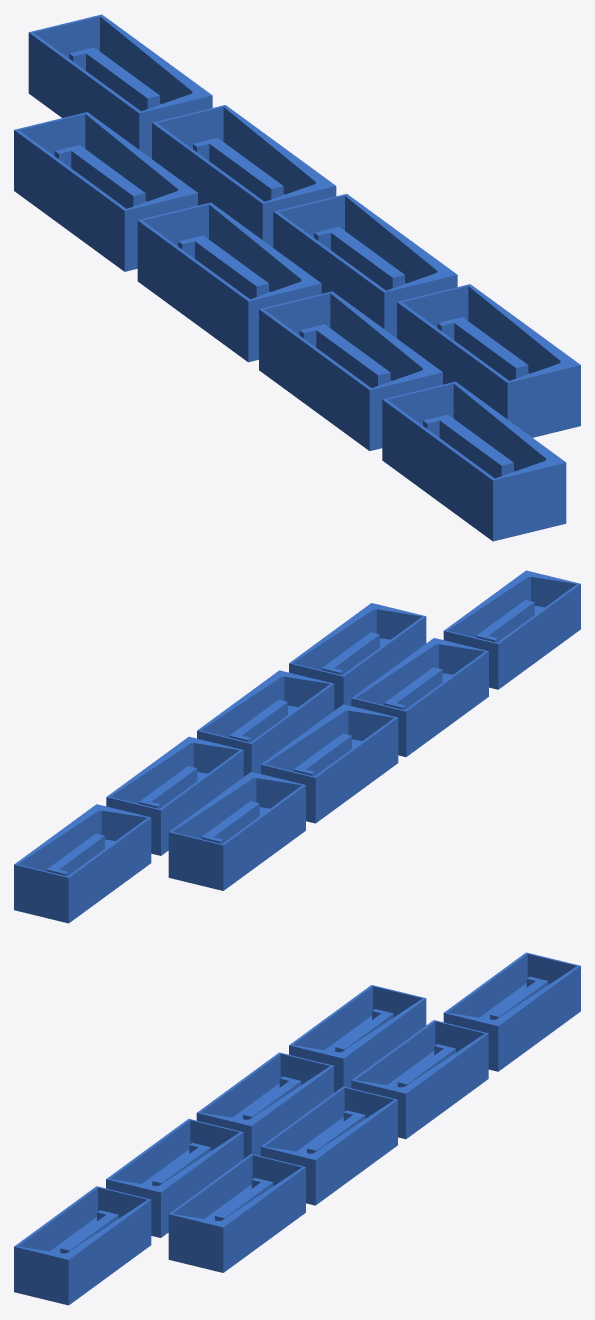
Rendered from USB2.fbx.
3 renders of one model, top to bottom at view 1: azimuth 30°, elevation 25°; view 2: azimuth 150°, elevation 25°; view 3: azimuth 330°, elevation 25°, orthographic. The views are drawn at different scales.
Visible parts, largest first — view 1: USB11; view 2: USB11; view 3: USB11.
Boxes of the visible parts, x1,y1,x2,y2 form: USB11: (14, 14, 580, 541); USB11: (14, 570, 580, 923); USB11: (14, 952, 580, 1305).
Size of the model in its own units: 808 by 256 by 4371.
